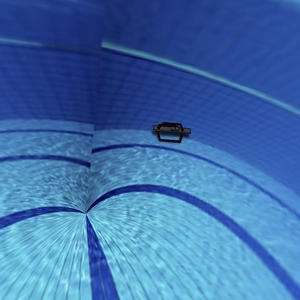submarine: (150, 106, 193, 160)
